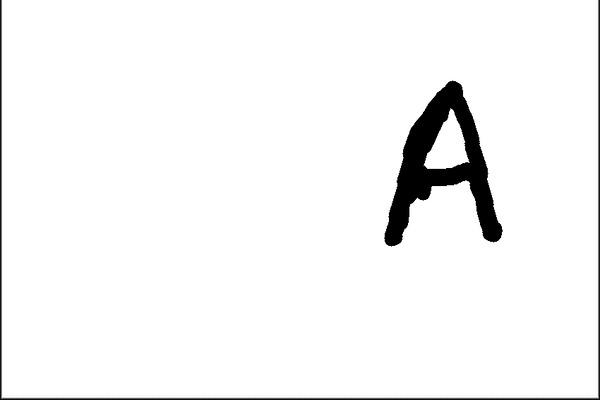A: (370, 75, 518, 253)
